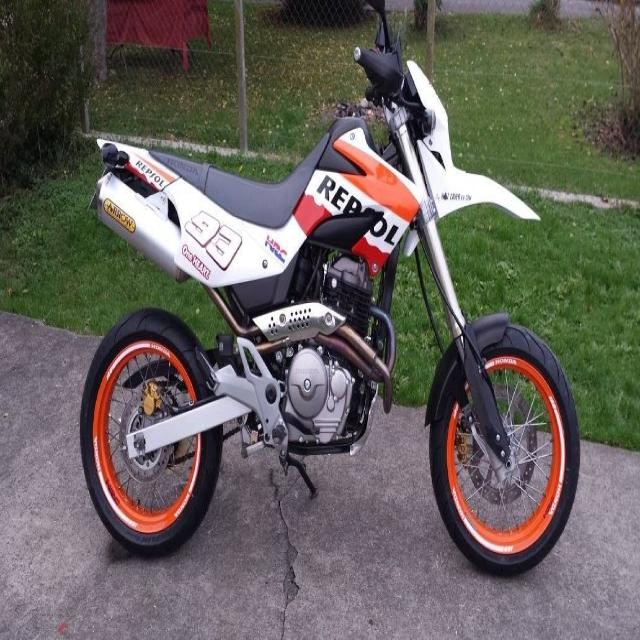Motorcycle: (80, 0, 580, 572)
